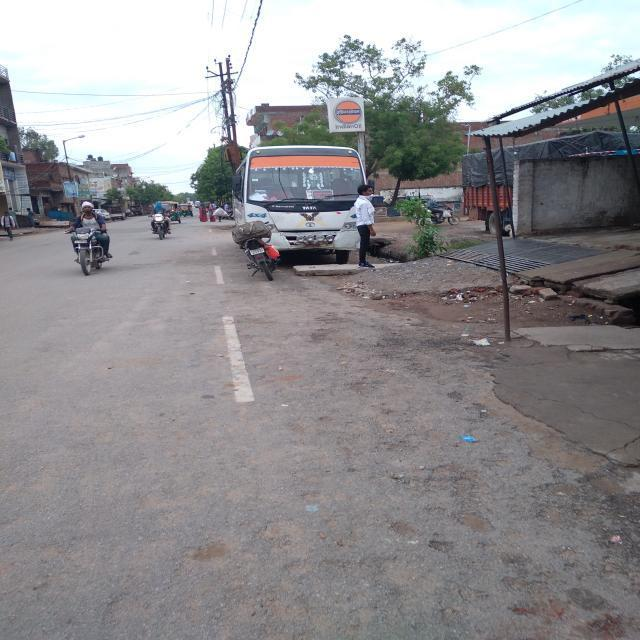bus_front: (228, 144, 376, 272)
two_wheeler_back: (235, 229, 284, 289)
two_wheeler_front: (60, 220, 114, 278), (146, 210, 176, 242)
